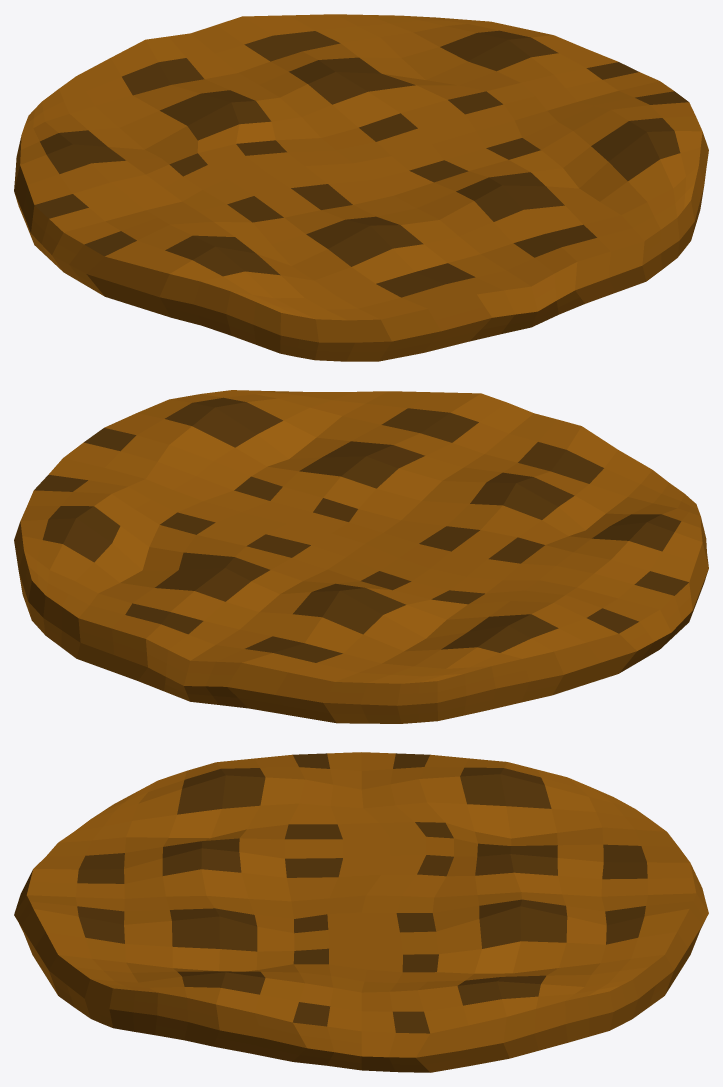
Rendered from Cookie_.fbx.
3 views of the same model, one above another, from view 1: azimuth 30°, elevation 25°; view 2: azimuth 150°, elevation 25°; view 3: azimuth 270°, elevation 25° (orthographic). The views are drawn at different scales.
Parts seen in each view (by area): view 1: Plane; view 2: Plane; view 3: Plane.
Part boxes in pixels (<box>): Plane: <box>14,14,708,361</box>; Plane: <box>14,390,708,723</box>; Plane: <box>14,752,708,1072</box>.
Size of the model in its own units: 207 by 28.7 by 206.
